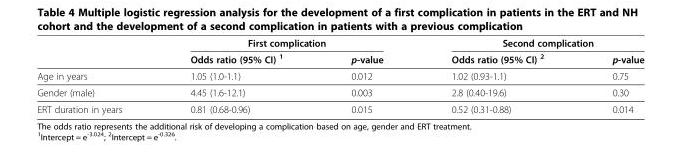table: (36, 36, 643, 114)
table column: (155, 36, 316, 114), (416, 36, 577, 114), (36, 36, 155, 114), (316, 36, 416, 114), (577, 36, 643, 114)
table column header: (36, 36, 643, 67)
table row: (36, 49, 643, 67), (36, 83, 643, 100), (36, 67, 643, 83), (36, 100, 643, 114), (36, 36, 643, 49)
table spanning cell: (155, 36, 416, 49), (416, 36, 643, 49)
